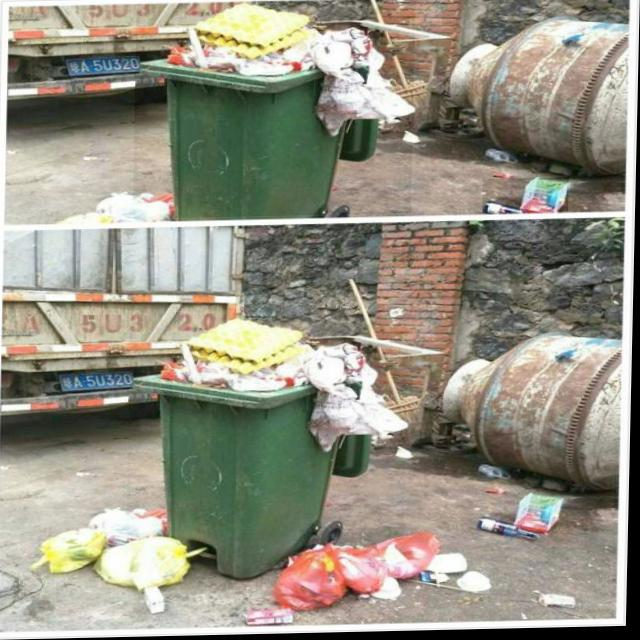garbage: (27, 489, 578, 633), (55, 190, 174, 223), (484, 180, 570, 216)
overflow: (128, 315, 410, 581), (133, 1, 416, 219)
